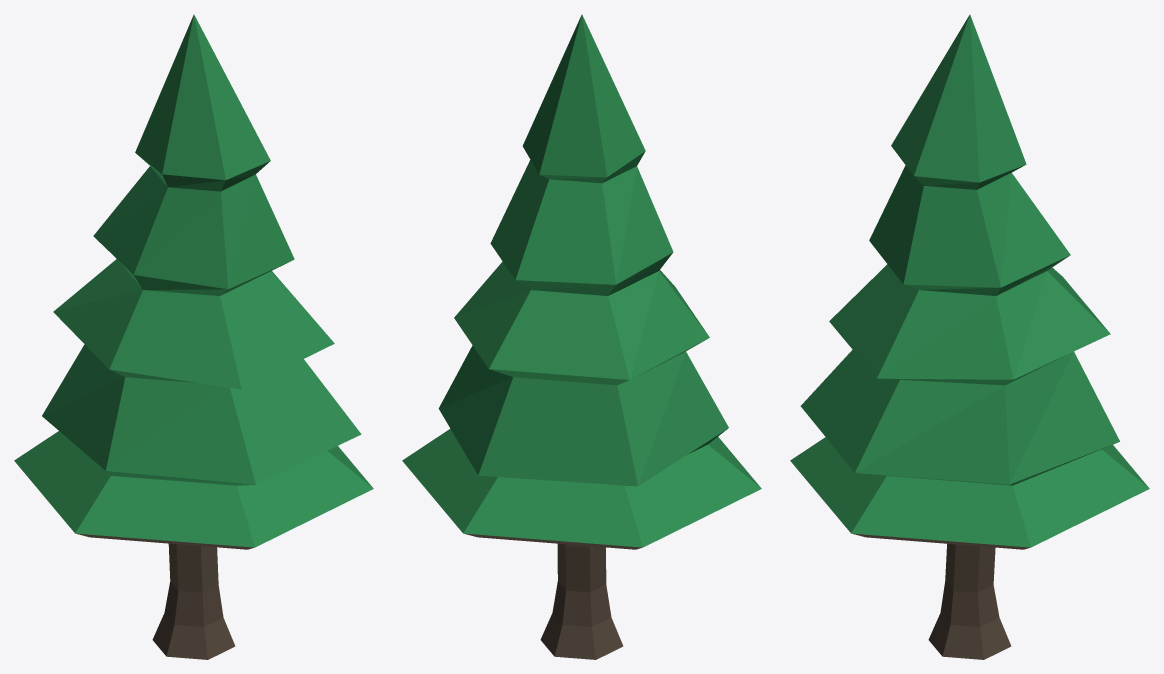
Rendered from Pinetree_new.fbx.
The picture shows the model from 3 angles, left to right: view 1: azimuth 30°, elevation 25°; view 2: azimuth 150°, elevation 25°; view 3: azimuth 270°, elevation 25°; orthographic projection.
Visible parts, largest first — view 1: Pine_tree_01; view 2: Pine_tree_01; view 3: Pine_tree_01.
Boxes of the visible parts, x1,y1,x2,y2 form: Pine_tree_01: [14, 14, 373, 659]; Pine_tree_01: [402, 14, 761, 659]; Pine_tree_01: [790, 14, 1149, 659].
Bounding box in the file's own units: 2.88 × 5.8 × 3.01.
Materials: 1 (1 with a texture image).
